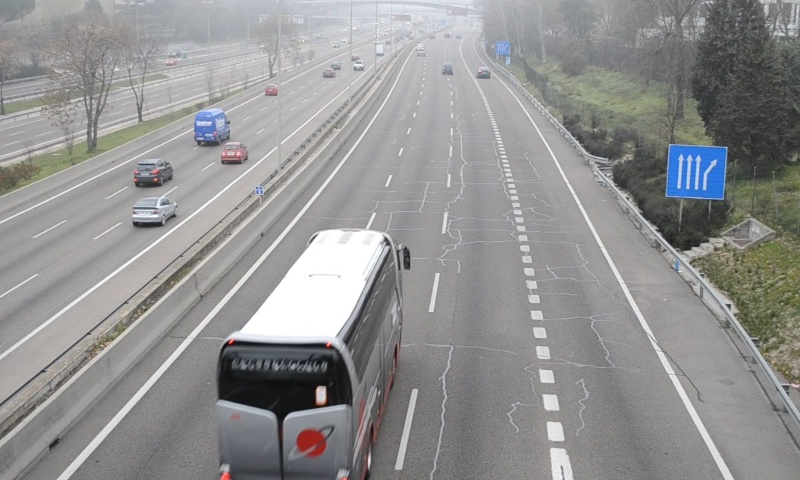bus: (216, 229, 403, 480)
car: (476, 66, 491, 80), (441, 62, 454, 76)
